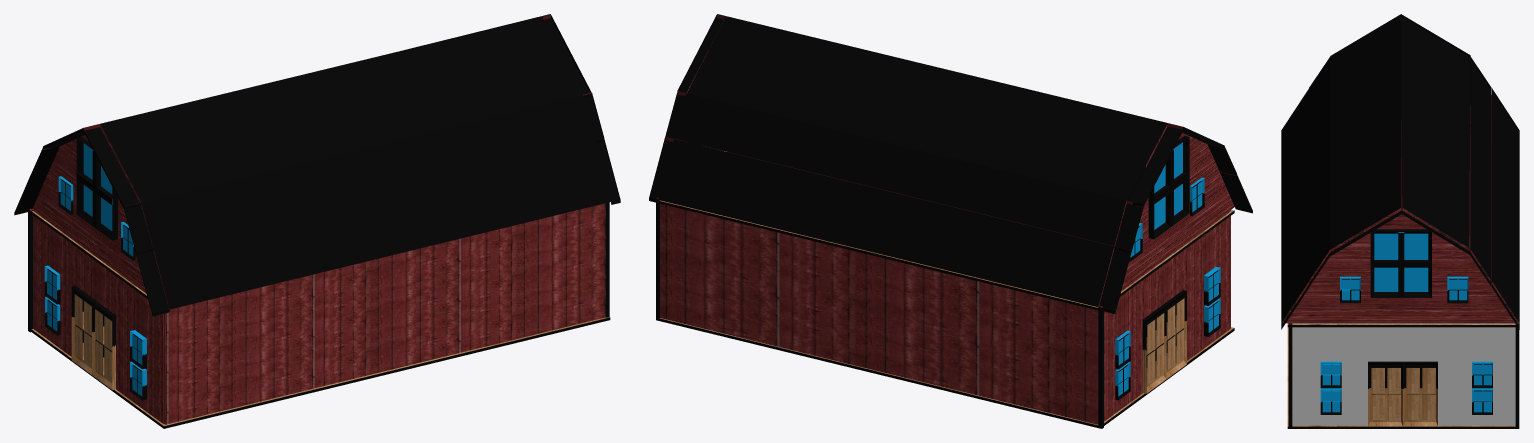
File: Barn2.fbx
The picture shows the model from 3 angles, left to right: view 1: azimuth 30°, elevation 25°; view 2: azimuth 150°, elevation 25°; view 3: azimuth 270°, elevation 25°; orthographic projection. The views are drawn at different scales.
Visible parts, largest first — view 1: Plane, Cube.002, Cube, Cube.008, Cube.001, Door.001, Door, Cube.005, Cube.010, Door.002; view 2: Plane, Cube.003, Cube, Cube.008, Cube.005, Cube.001, Door, Door.001, Door.002; view 3: Plane, Cube.004, Cube.008, Door.010, Door.011, Cube.010, Cube.001, Cube.005, Door.006, Door.013, Door.007, Door.009 (+2 smaller).
Part boxes in pixels (x1,y1,x2,y2): Plane: (14, 14, 620, 316); Cube.002: (164, 203, 605, 424); Cube: (28, 209, 163, 423); Cube.008: (76, 136, 117, 240); Cube.001: (31, 317, 610, 428); Door.001: (92, 300, 115, 389); Door: (71, 285, 95, 374); Cube.005: (31, 202, 609, 308); Cube.010: (605, 202, 609, 317); Door.002: (130, 330, 146, 369); Plane: (649, 14, 1252, 313); Cube.003: (656, 197, 1102, 424); Cube: (1098, 210, 1230, 428); Cube.008: (1145, 136, 1189, 239); Cube.005: (658, 200, 1234, 310); Cube.001: (656, 317, 1234, 428); Door: (1142, 305, 1166, 393); Door.001: (1163, 290, 1186, 378); Door.002: (1204, 267, 1220, 305); Plane: (1281, 14, 1519, 329); Cube.004: (1292, 323, 1518, 425); Cube.008: (1370, 229, 1431, 297); Door.010: (1403, 361, 1437, 426); Door.011: (1368, 361, 1402, 426); Cube.010: (1288, 323, 1519, 428); Cube.001: (1287, 327, 1515, 428); Cube.005: (1287, 323, 1515, 327); Door.006: (1320, 361, 1341, 388); Door.013: (1447, 276, 1468, 303); Door.007: (1320, 388, 1341, 414); Door.009: (1472, 361, 1492, 388).
Size of the model in its own units: 1991 by 1043 by 1018.
